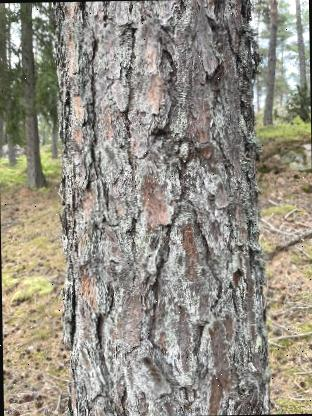tree: (44, 0, 284, 416)
